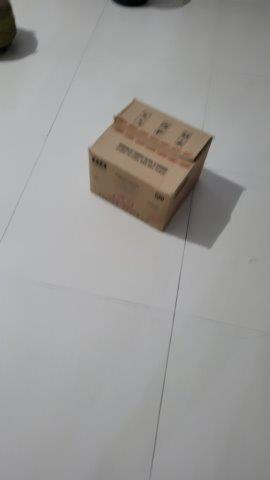kardus: (89, 98, 213, 234)
